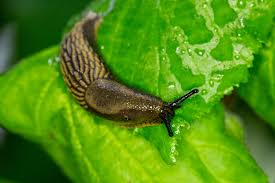slug: (59, 10, 196, 138)
